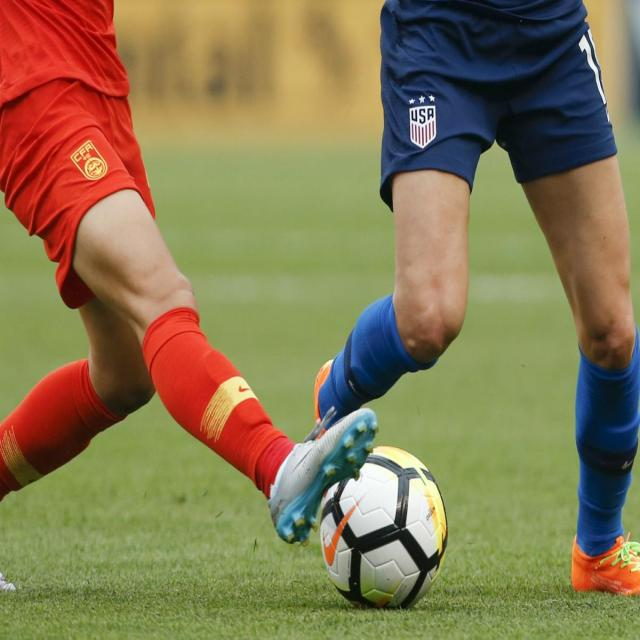soccer ball: (321, 446, 446, 611)
